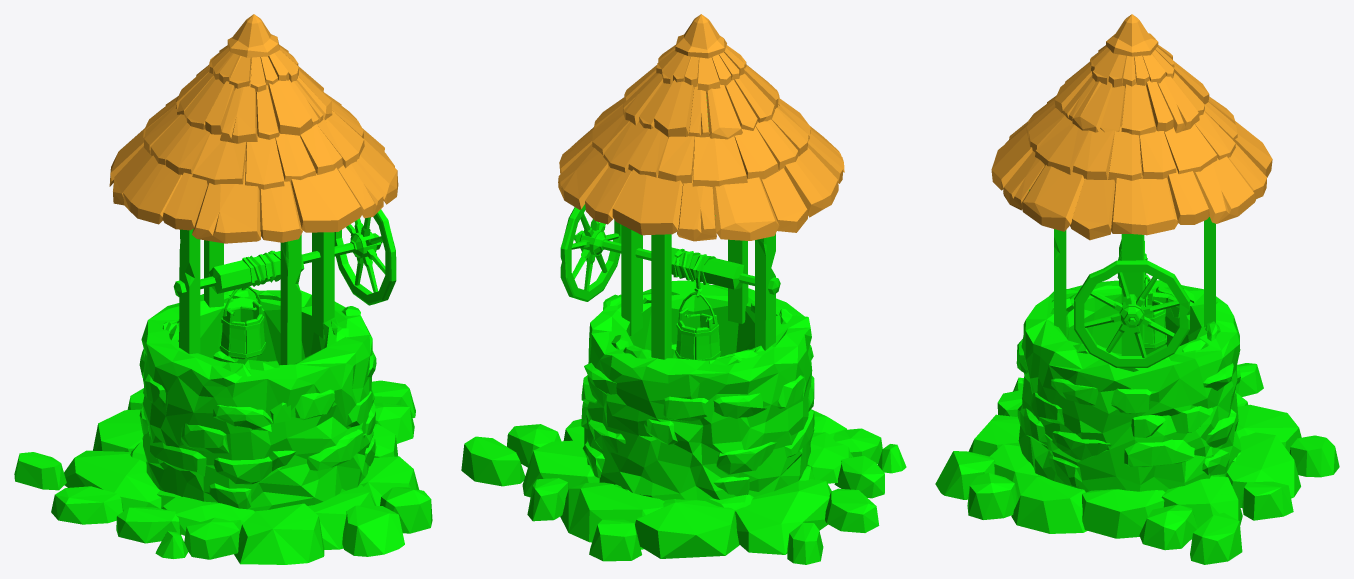
File: SM_Water_Well_B_Fantasy.fbx
The picture shows the model from 3 angles, left to right: view 1: azimuth 30°, elevation 25°; view 2: azimuth 150°, elevation 25°; view 3: azimuth 270°, elevation 25°; orthographic projection. The views are drawn at different scales.
Parts seen in each view (by area): view 1: water-well-b-fantasy; view 2: water-well-b-fantasy; view 3: water-well-b-fantasy.
Boxes of the visible parts, box(x1,y1,x2,y2) form: water-well-b-fantasy: box(14, 14, 432, 564); water-well-b-fantasy: box(461, 14, 906, 564); water-well-b-fantasy: box(935, 14, 1339, 564).
Bounding box in the file's own units: 3.21 × 3.8 × 3.
